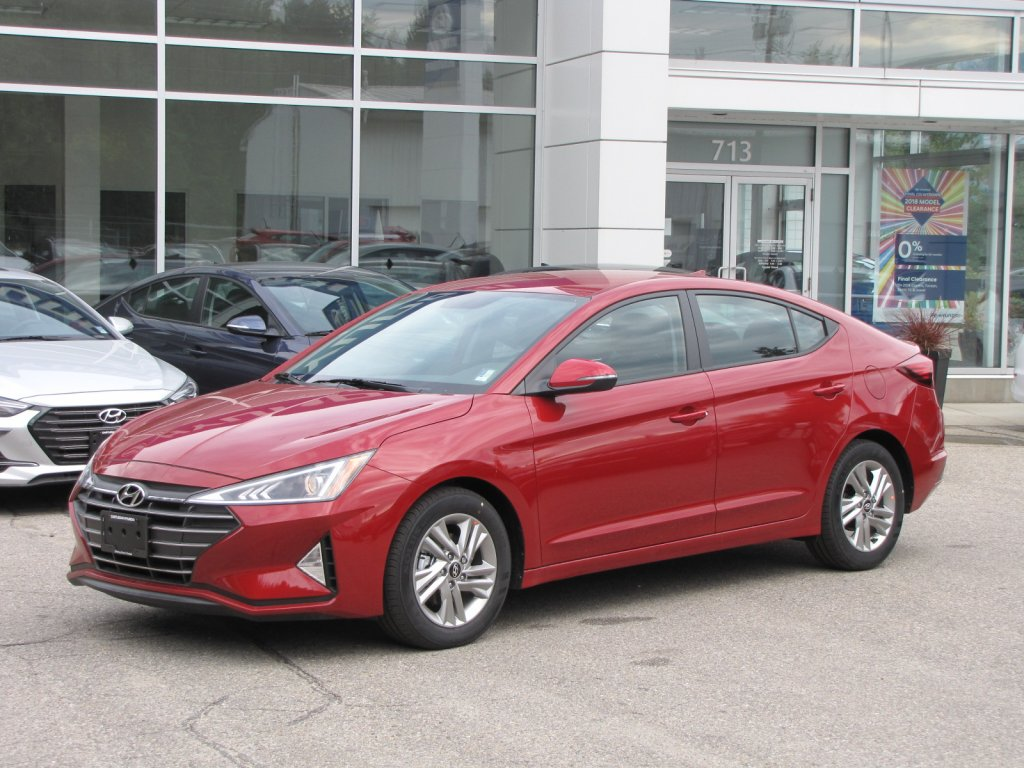elantra: (45, 267, 970, 644)
